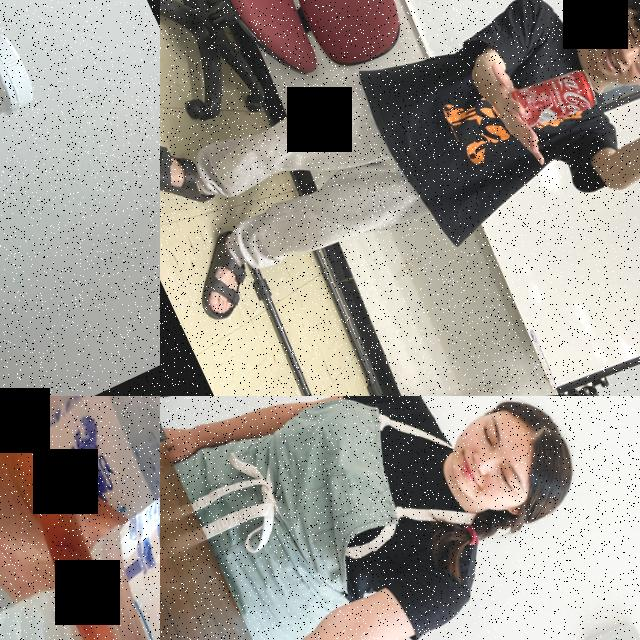bottle: (0, 396, 160, 640), (0, 0, 63, 340)
can: (506, 58, 604, 140)
